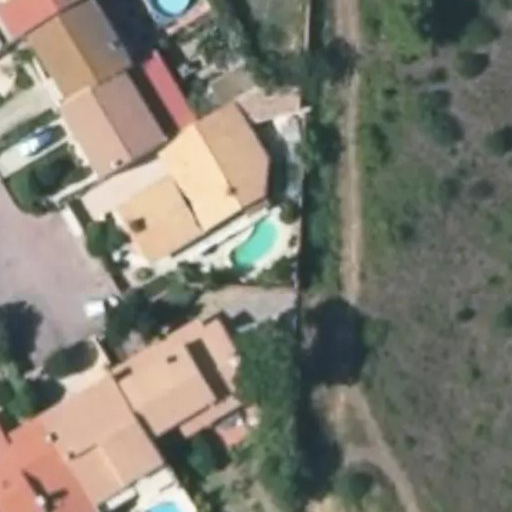pool: (223, 217, 281, 270)
